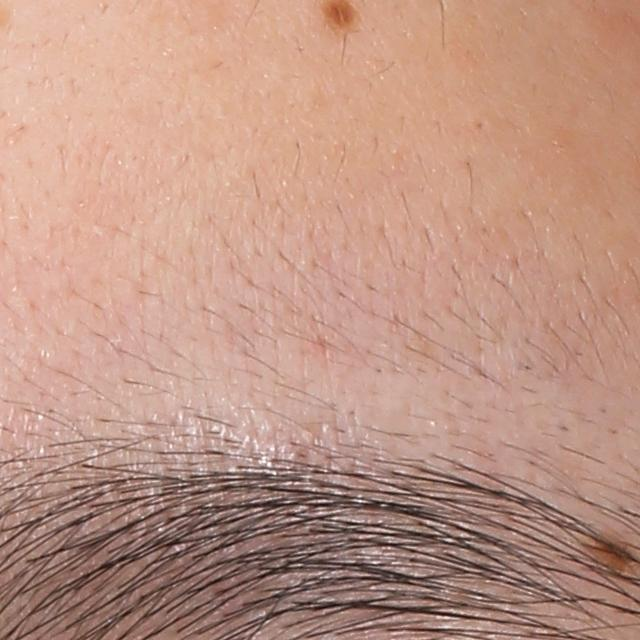nevus: (598, 533, 629, 570)
